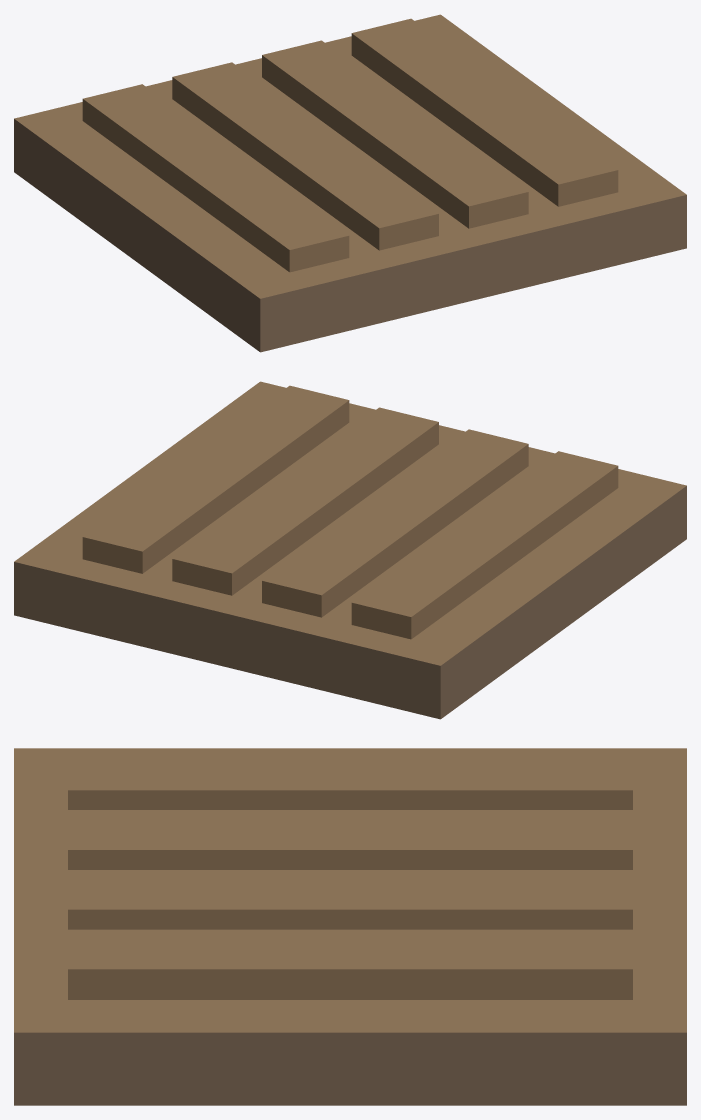
The model's file is Tile_Tilled.fbx.
The picture shows the model from 3 angles, top to bottom: view 1: azimuth 30°, elevation 25°; view 2: azimuth 150°, elevation 25°; view 3: azimuth 270°, elevation 25°; orthographic projection. The views are drawn at different scales.
Parts seen in each view (by area): view 1: Tile_Tilled; view 2: Tile_Tilled; view 3: Tile_Tilled.
Boxes of the visible parts, bbox=[...] form: Tile_Tilled: bbox=[14, 14, 686, 352]; Tile_Tilled: bbox=[14, 381, 686, 719]; Tile_Tilled: bbox=[14, 748, 686, 1105].
Bounding box in the file's own units: 100 × 17 × 100.
